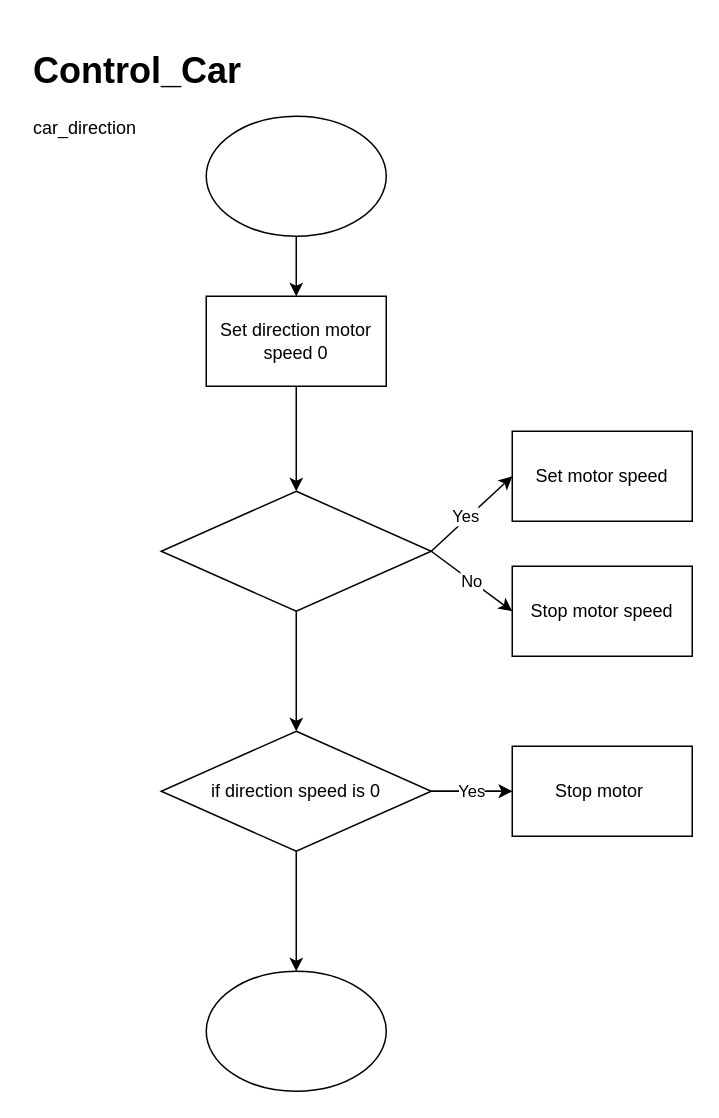
Some shapes in this 719 by 1118 pixel diagram are drawn without their labels. The box of each missing label's shape, as (x1, y1, x2, y2) in pixels:
Motor count under speed: (160, 490, 431, 611)
Task Start: (205, 115, 386, 236)
Terminate Task: (205, 970, 386, 1091)
